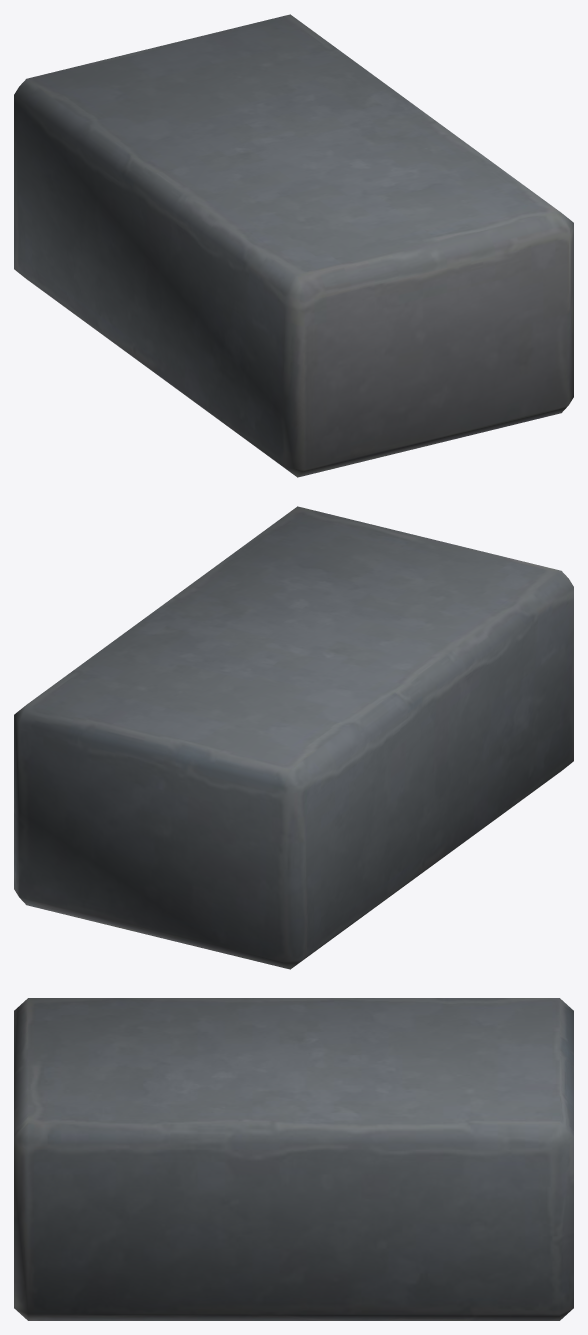
The model's file is stone_brick.glb.
The picture shows the model from 3 angles, top to bottom: view 1: azimuth 30°, elevation 25°; view 2: azimuth 150°, elevation 25°; view 3: azimuth 270°, elevation 25°; orthographic projection.
Visible parts, largest first — view 1: Cube.003; view 2: Cube.003; view 3: Cube.003.
Boxes of the visible parts, box(x1,y1,x2,y2) form: Cube.003: box(14, 14, 573, 477); Cube.003: box(14, 506, 573, 969); Cube.003: box(14, 998, 573, 1320).
Size of the model in its own units: 40.87 by 27.09 by 69.96.
1 material, 1 textured.
